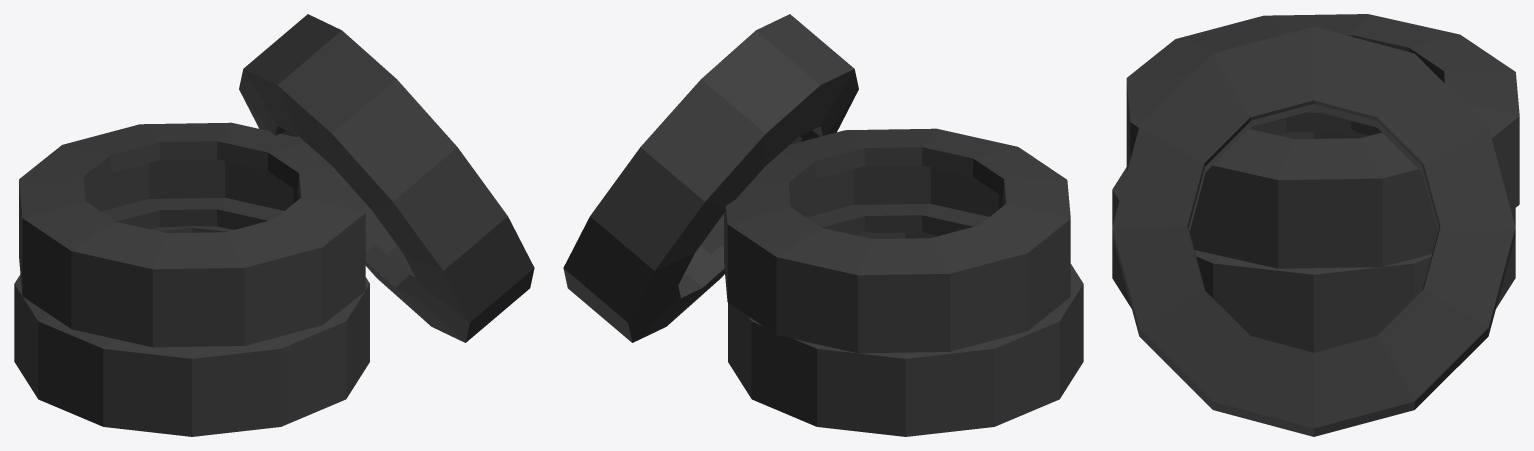
The model's file is Tire.fbx.
The picture shows the model from 3 angles, left to right: view 1: azimuth 30°, elevation 25°; view 2: azimuth 150°, elevation 25°; view 3: azimuth 270°, elevation 25°; orthographic projection. The views are drawn at different scales.
Visible parts, largest first — view 1: SM_Prop_TireStack_01__3_; view 2: SM_Prop_TireStack_01__3_; view 3: SM_Prop_TireStack_01__3_.
Boxes of the visible parts, x1,y1,x2,y2 form: SM_Prop_TireStack_01__3_: [14, 14, 534, 436]; SM_Prop_TireStack_01__3_: [563, 14, 1083, 436]; SM_Prop_TireStack_01__3_: [1112, 14, 1519, 436].
Size of the model in its own units: 108 by 71.52 by 73.2.
